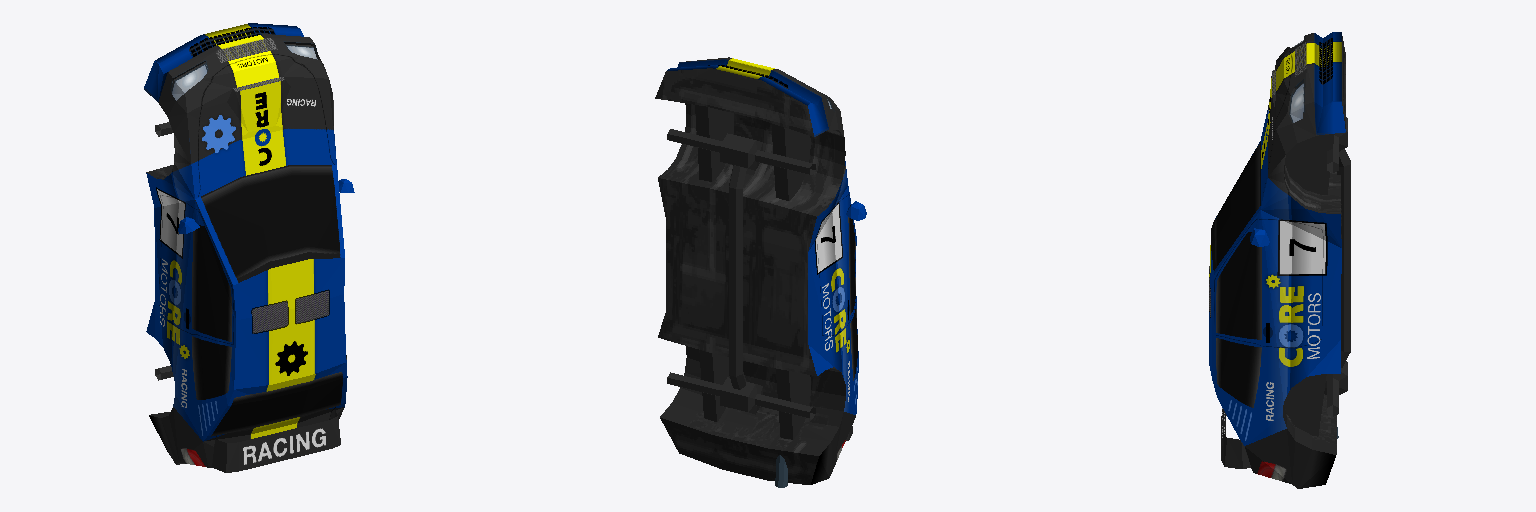
3 renders of one model, left to right at view 1: azimuth 30°, elevation 25°; view 2: azimuth 150°, elevation 25°; view 3: azimuth 270°, elevation 25°, orthographic.
Parts seen in each view (by area): view 1: seat_seat.0; view 2: seat_seat.0; view 3: seat_seat.0.
Boxes of the visible parts, x1=… form: seat_seat.0: x1=144, y1=23, x2=354, y2=472; seat_seat.0: x1=655, y1=57, x2=866, y2=487; seat_seat.0: x1=1209, y1=32, x2=1350, y2=488.
Bounding box in the file's own units: 161 × 360 × 113.
1 materials, 1 textured.